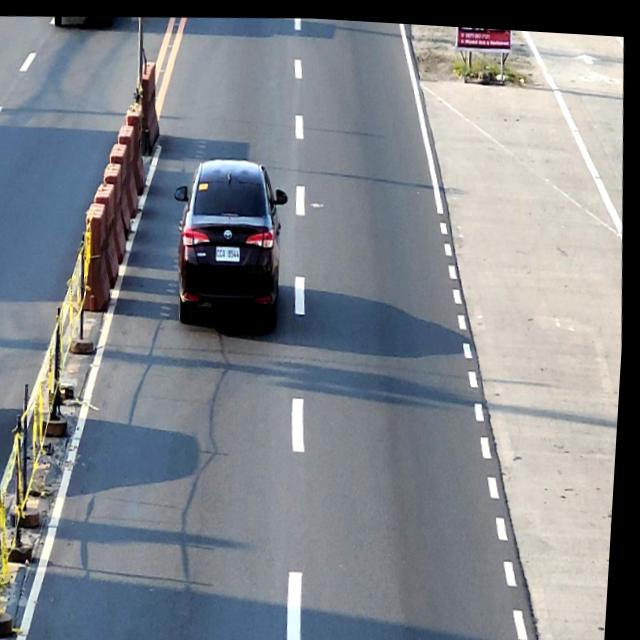Car: (168, 151, 298, 331)
License-Plate: (218, 242, 244, 259)
